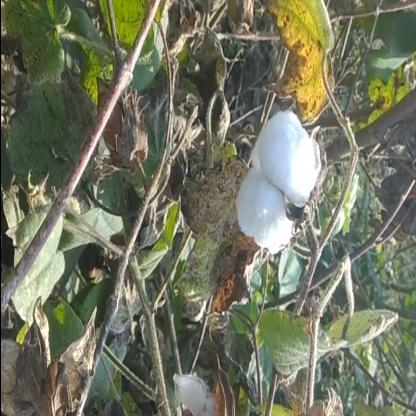cotton_ready: (238, 102, 326, 252)
